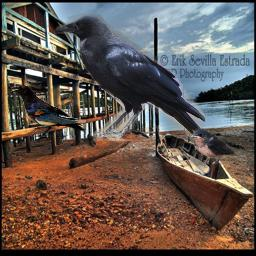Crow: (54, 13, 205, 141), (11, 85, 86, 137)
Swallow: (190, 128, 237, 164), (33, 106, 86, 127)
